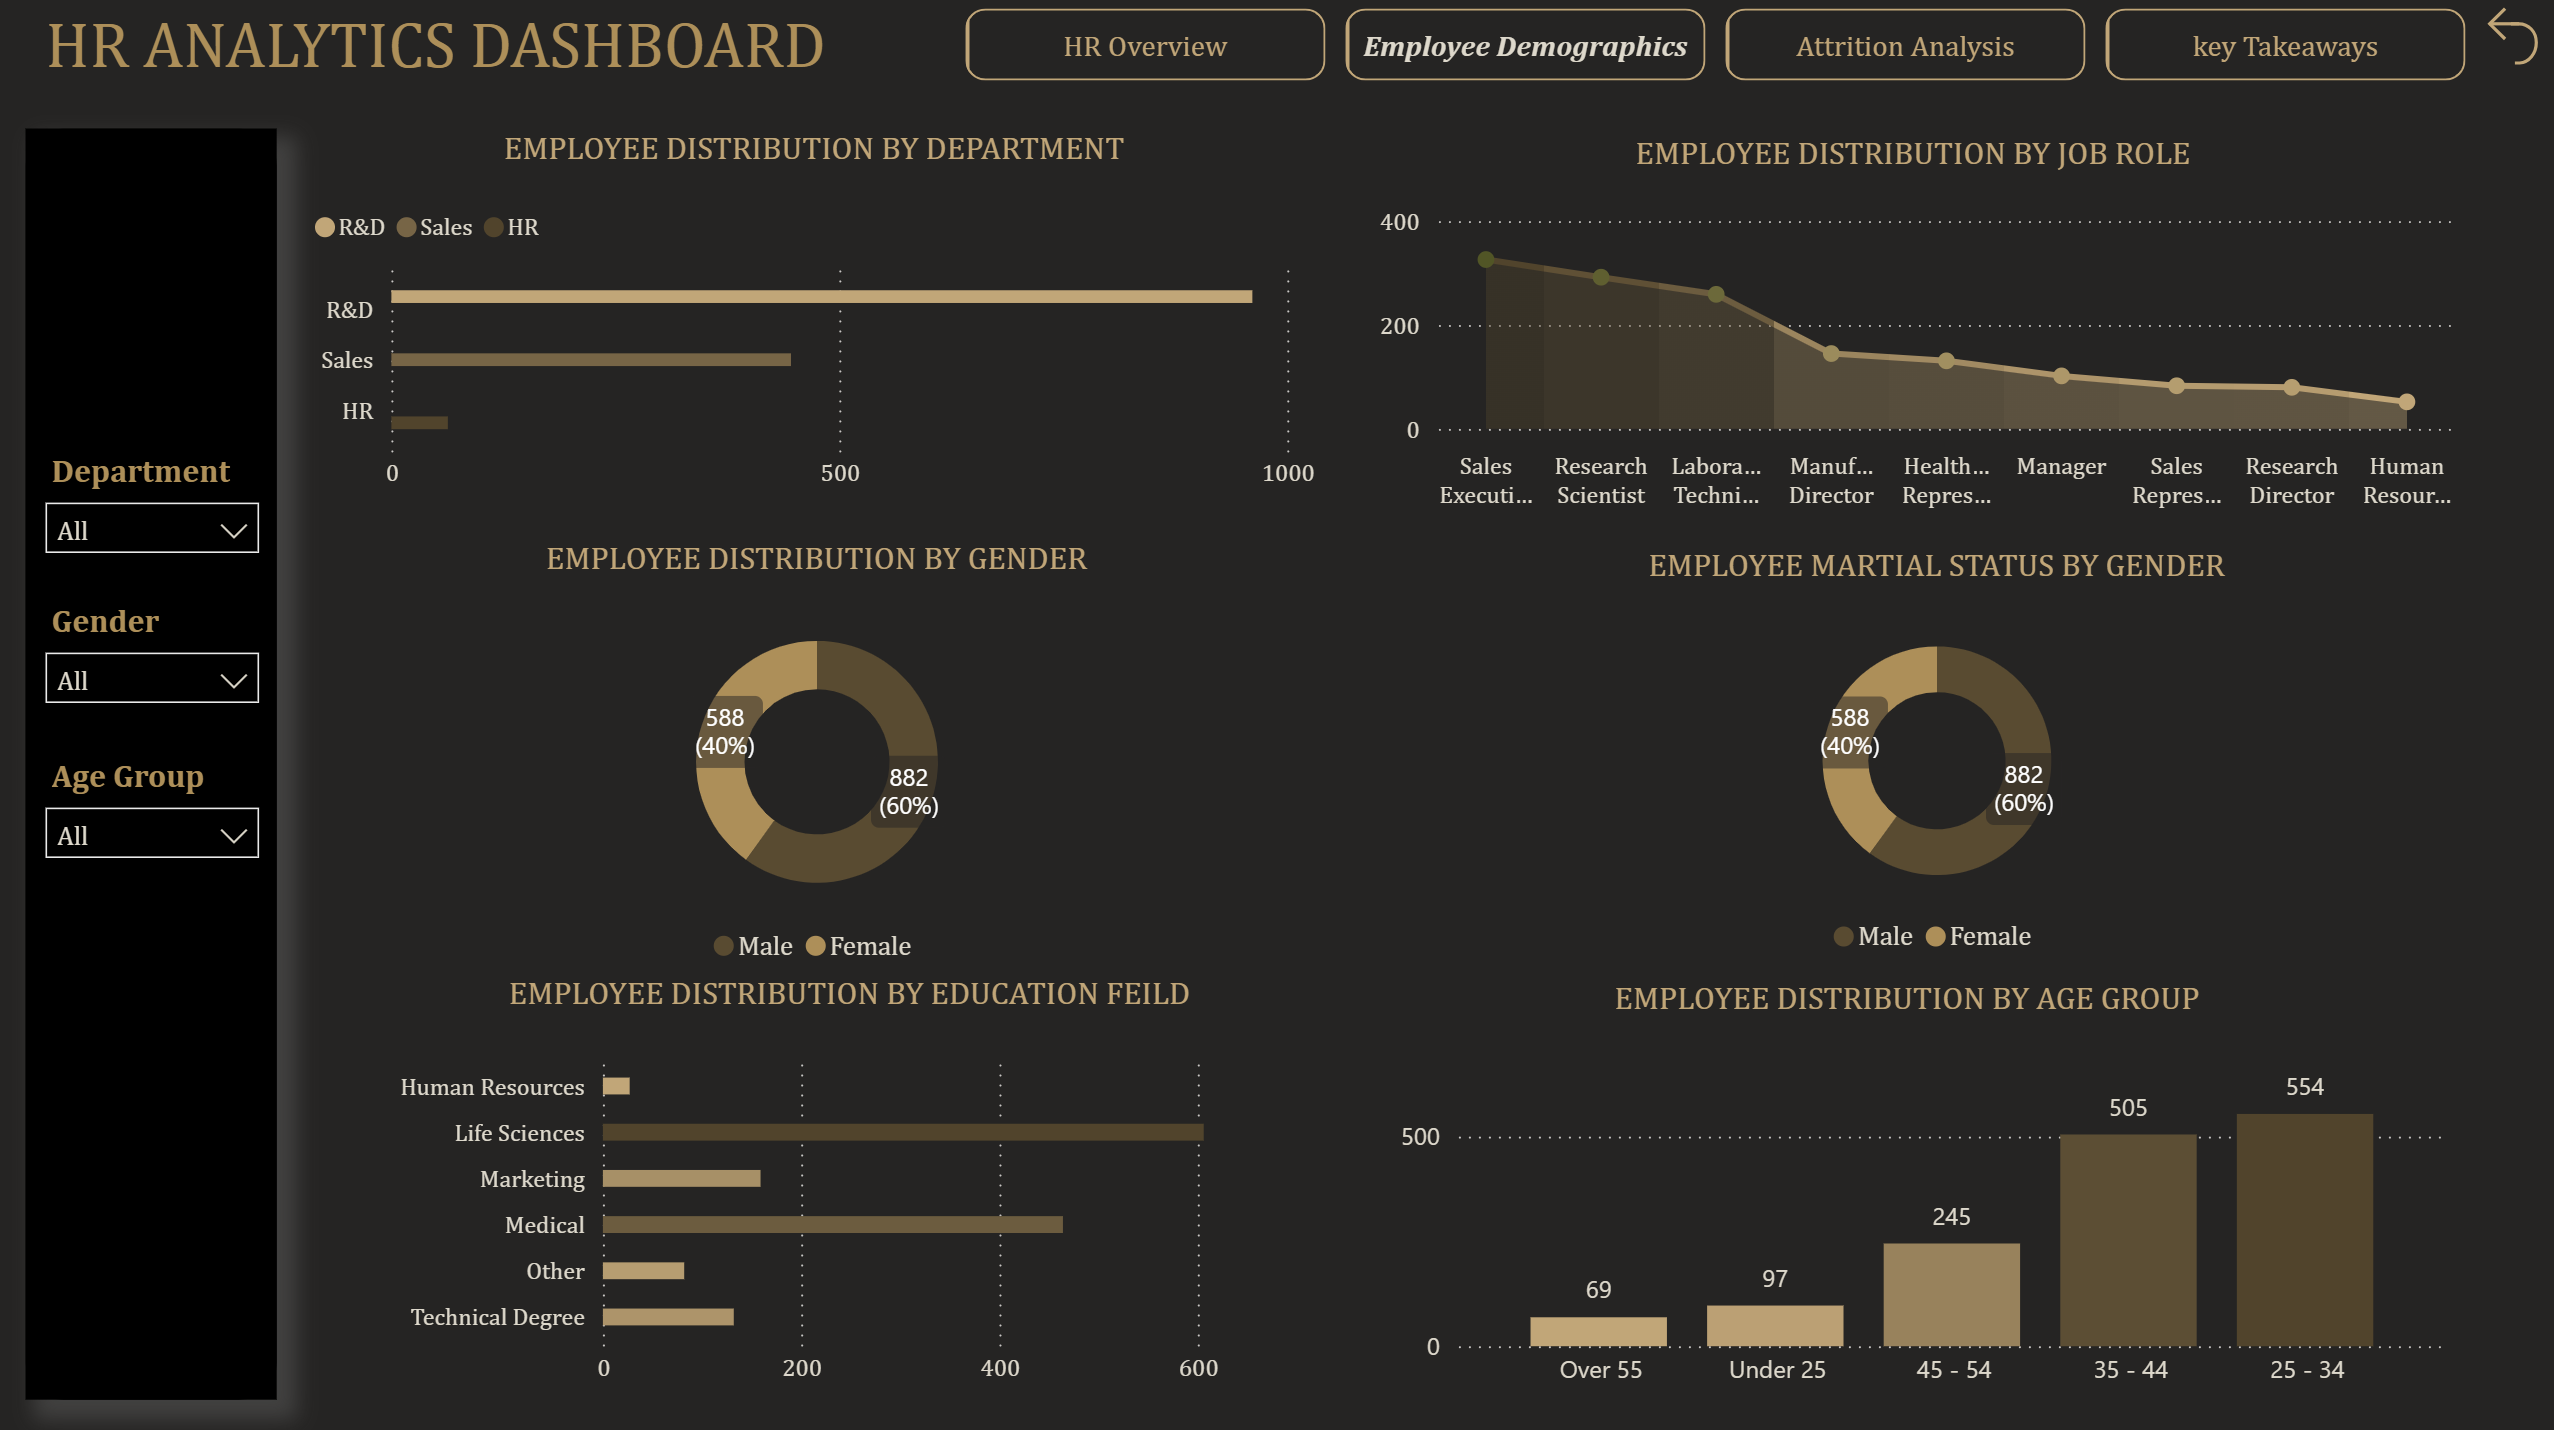

The page's visual inventory and layout, read from the dashboard file:
{"tool":"powerbi","page":{"name":"\tEmployee Demographics","canvas":[1280,720],"ordinal":1},"visuals":[{"type":"shape","box":[14.3,65.7,125.7,635.7],"z":0},{"type":"actionButton","box":[1237.1,0,42.9,40],"z":1000},{"type":"slicer","fields":{"Values":["HR data.Department"]},"box":[13.3,222.2,126.7,64.4],"z":2000},{"type":"slicer","fields":{"Values":["HR data.Gender"]},"box":[13.3,297.8,126.7,65.6],"z":3000},{"type":"slicer","fields":{"Values":["HR data.Age Group"]},"box":[13.3,374.4,126.7,65.6],"z":4000},{"type":"clusteredBarChart","title":"EMPLOYEE DISTRIBUTION BY DEPARTMENT","fields":{"Series":["HR data.Department"],"Y":["Sum(HR data.Employee Count)"],"Category":["HR data.Department"]},"box":[152.9,65.7,511,189.5],"z":5000},{"type":"stackedAreaChart","title":"EMPLOYEE DISTRIBUTION BY JOB ROLE","fields":{"Category":["HR data.Job Role"],"Y":["Sum(HR data.Employee Count)"]},"box":[678.6,68.2,557.5,195.7],"z":6000},{"type":"donutChart","title":"EMPLOYEE DISTRIBUTION BY GENDER","fields":{"Category":["HR data.Gender"],"Series":["HR data.Gender"],"Y":["CountNonNull(HR data.Employee Count)"]},"box":[170,271.4,478.6,222.9],"z":7000},{"type":"clusteredColumnChart","title":"EMPLOYEE DISTRIBUTION BY AGE GROUP","fields":{"Y":["CountNonNull(HR data.Employee Count)"],"Category":["HR data.Age Group"]},"box":[679.1,491.5,551.4,222.9],"z":8000},{"type":"barChart","title":"EMPLOYEE DISTRIBUTION BY EDUCATION FEILD","fields":{"Category":["HR data.Education Field"],"Y":["CountNonNull(HR data.Employee Count)"]},"box":[185.7,488.6,479,214],"z":9000},{"type":"donutChart","title":"EMPLOYEE MARTIAL STATUS BY GENDER","fields":{"Category":["HR data.Gender"],"Y":["CountNonNull(HR data.Marital Status)"],"Series":["HR data.Employee Count"]},"box":[730.5,274.4,478.6,214.3],"z":10000},{"type":"pageNavigator","box":[483.3,6,753.6,36.9],"z":11000},{"type":"textbox","box":[18.9,0,790,80],"z":12000}]}

Visuals, with their boxes in screenshot pixels (x1, y1, x2, y2), scaled from the page's 1280x720 canvas onto the 2554x1430 screenshot:
shape: bbox=[29, 130, 279, 1393]
actionButton: bbox=[2468, 0, 2553, 79]
slicer - HR data.Department: bbox=[27, 441, 279, 569]
slicer - HR data.Gender: bbox=[27, 591, 279, 722]
slicer - HR data.Age Group: bbox=[27, 744, 279, 874]
"EMPLOYEE DISTRIBUTION BY DEPARTMENT" clusteredBarChart: bbox=[305, 130, 1325, 507]
"EMPLOYEE DISTRIBUTION BY JOB ROLE" stackedAreaChart: bbox=[1354, 135, 2466, 524]
"EMPLOYEE DISTRIBUTION BY GENDER" donutChart: bbox=[339, 539, 1294, 982]
"EMPLOYEE DISTRIBUTION BY AGE GROUP" clusteredColumnChart: bbox=[1355, 976, 2455, 1419]
"EMPLOYEE DISTRIBUTION BY EDUCATION FEILD" barChart: bbox=[371, 970, 1326, 1395]
"EMPLOYEE MARTIAL STATUS BY GENDER" donutChart: bbox=[1458, 545, 2413, 971]
pageNavigator: bbox=[964, 12, 2468, 85]
textbox: bbox=[38, 0, 1614, 159]
